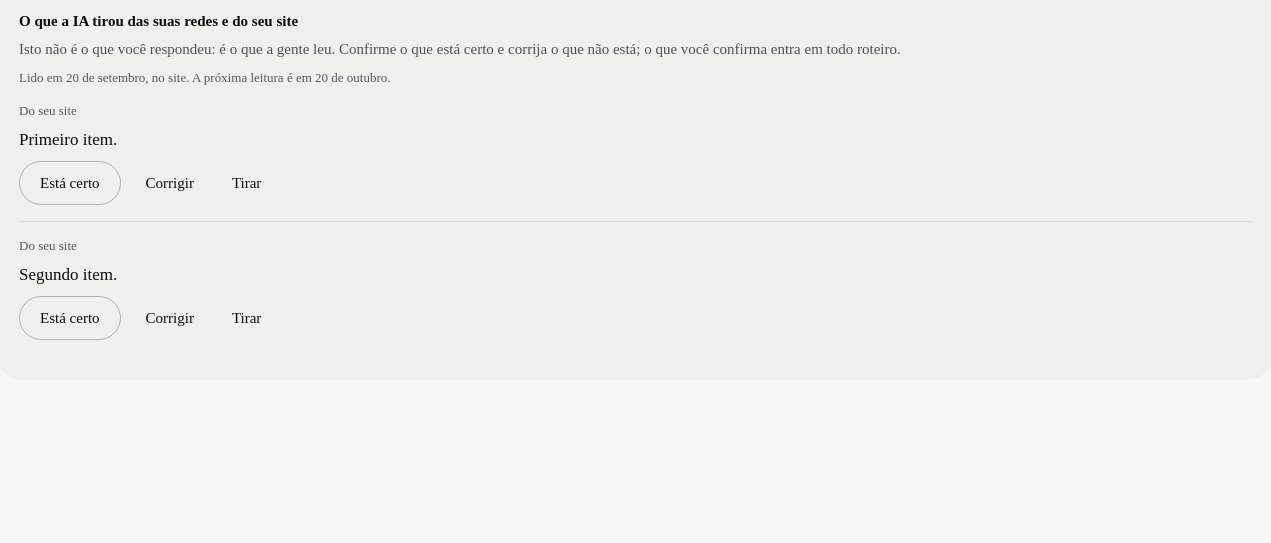
Test: o que chega depois de a pessoa ter mudado de campo › a ação de um item falha depois de a pessoa abrir a correção de outro: a frase não promete um texto que já não está no campo
Click the button with aria-label "Corrigir: Primeiro item.".
click(170, 183)  # box [133, 161, 207, 205]
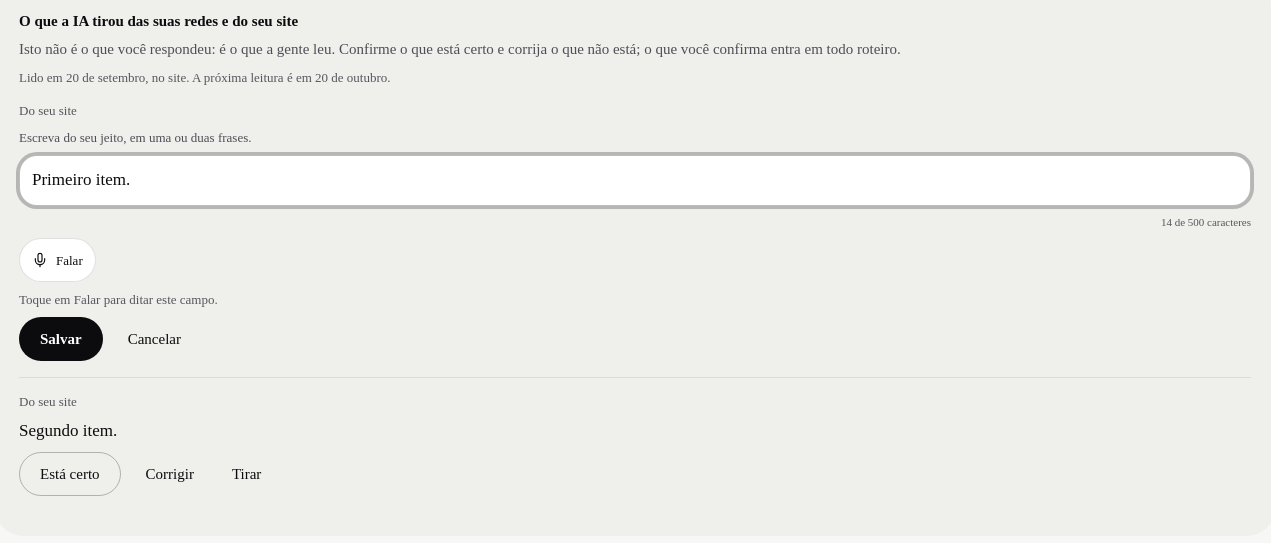
Replace the text in the text box named "Corrigir o que a IA entendeu" with "Primeiro corrigido" at (635, 181), box [19, 155, 1251, 206]
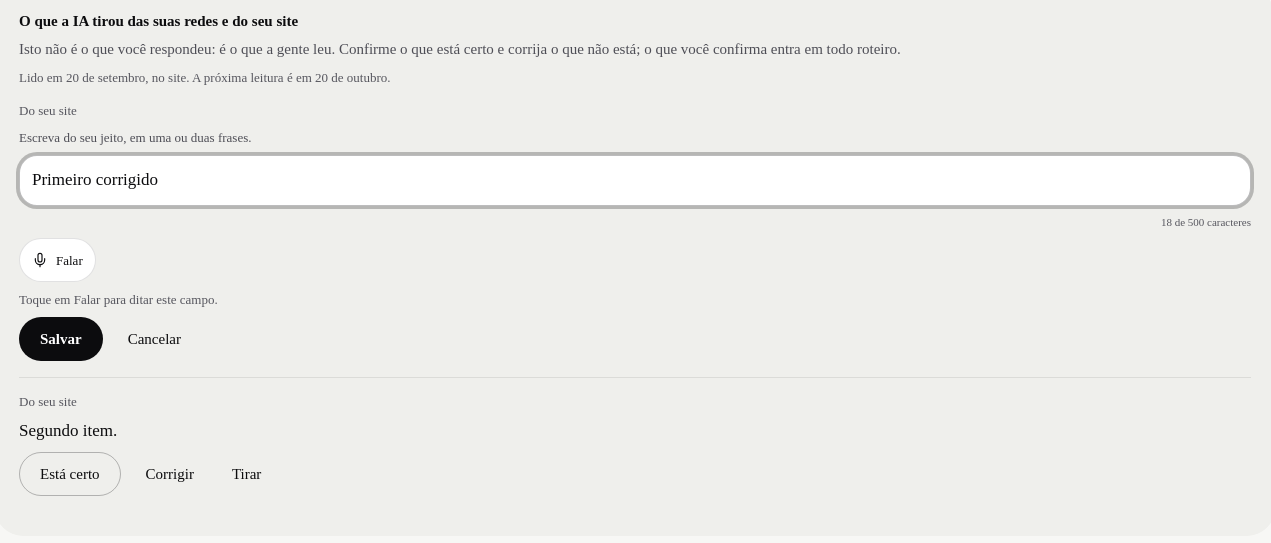
Click the button "Salvar".
click(61, 339)  # box [19, 317, 103, 361]
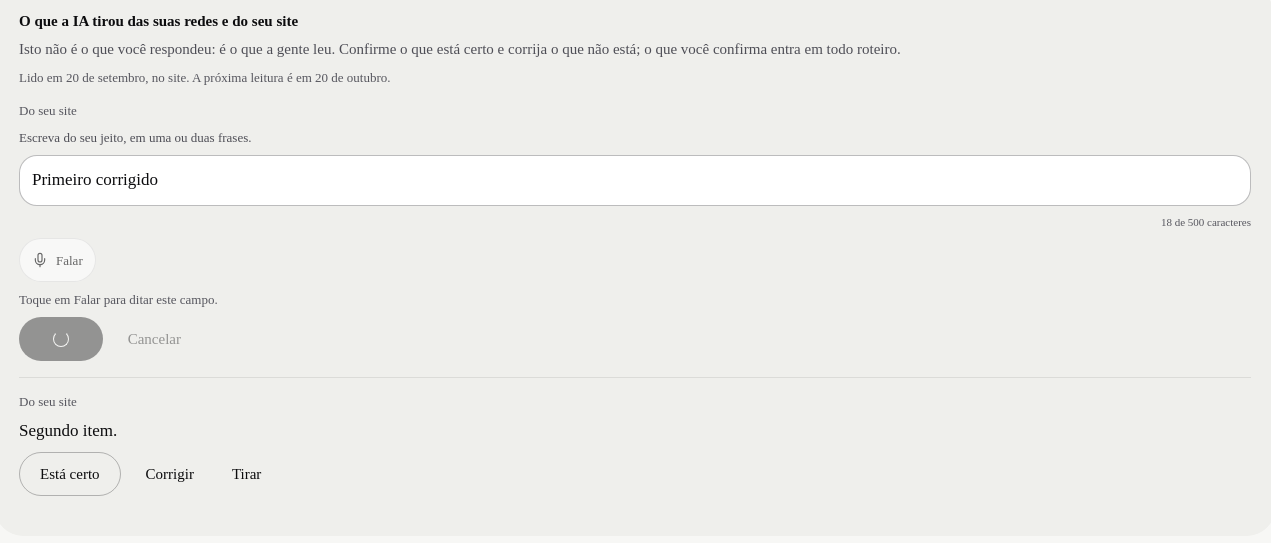
Click the button with aria-label "Corrigir: Segundo item.".
click(170, 474)  # box [133, 452, 207, 496]
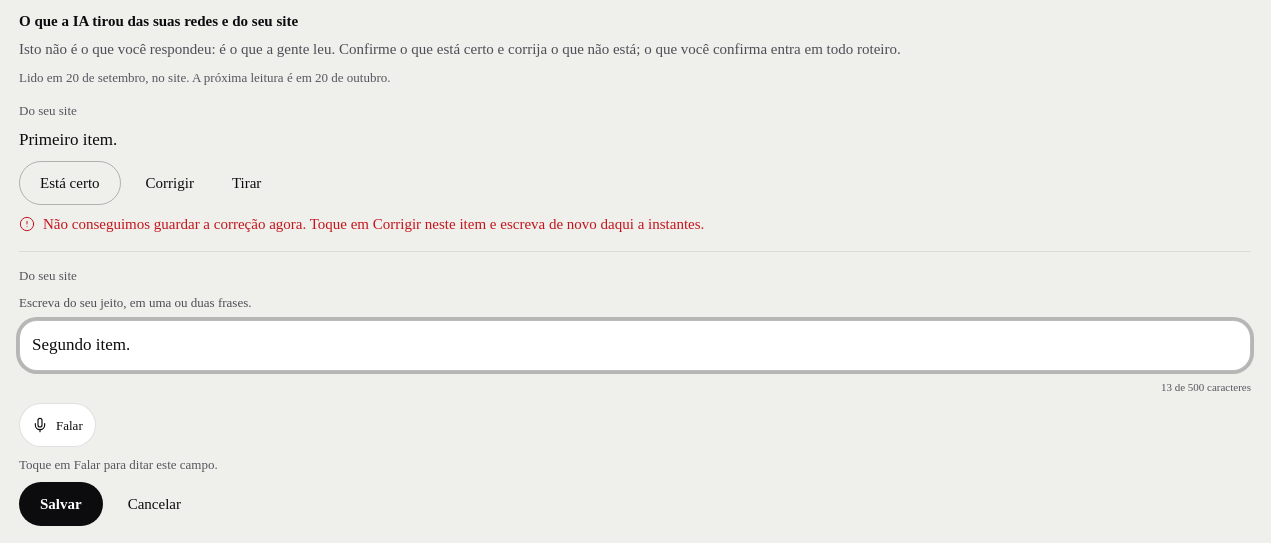
Check: the text box named "Corrigir o que a IA entendeu" is shown, box [19, 320, 1251, 371]
Check: the text "Toque em Corrigir neste item e escreva de novo" is shown, box [43, 216, 704, 232]
